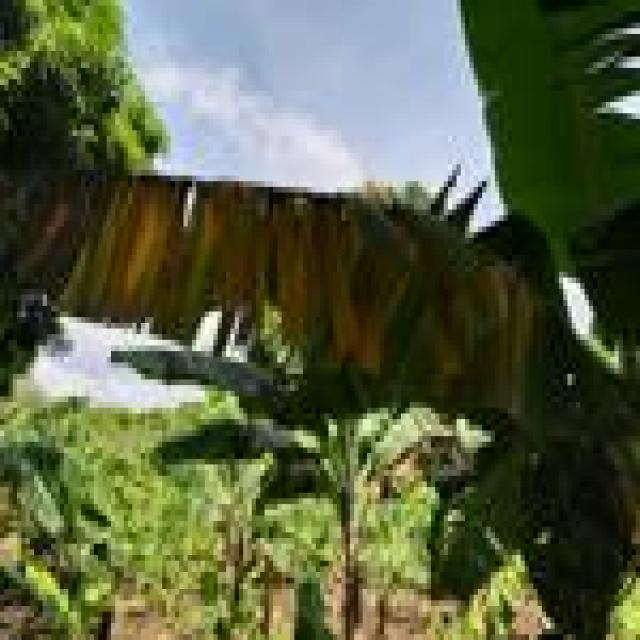Early_rust: (0, 111, 528, 445)
